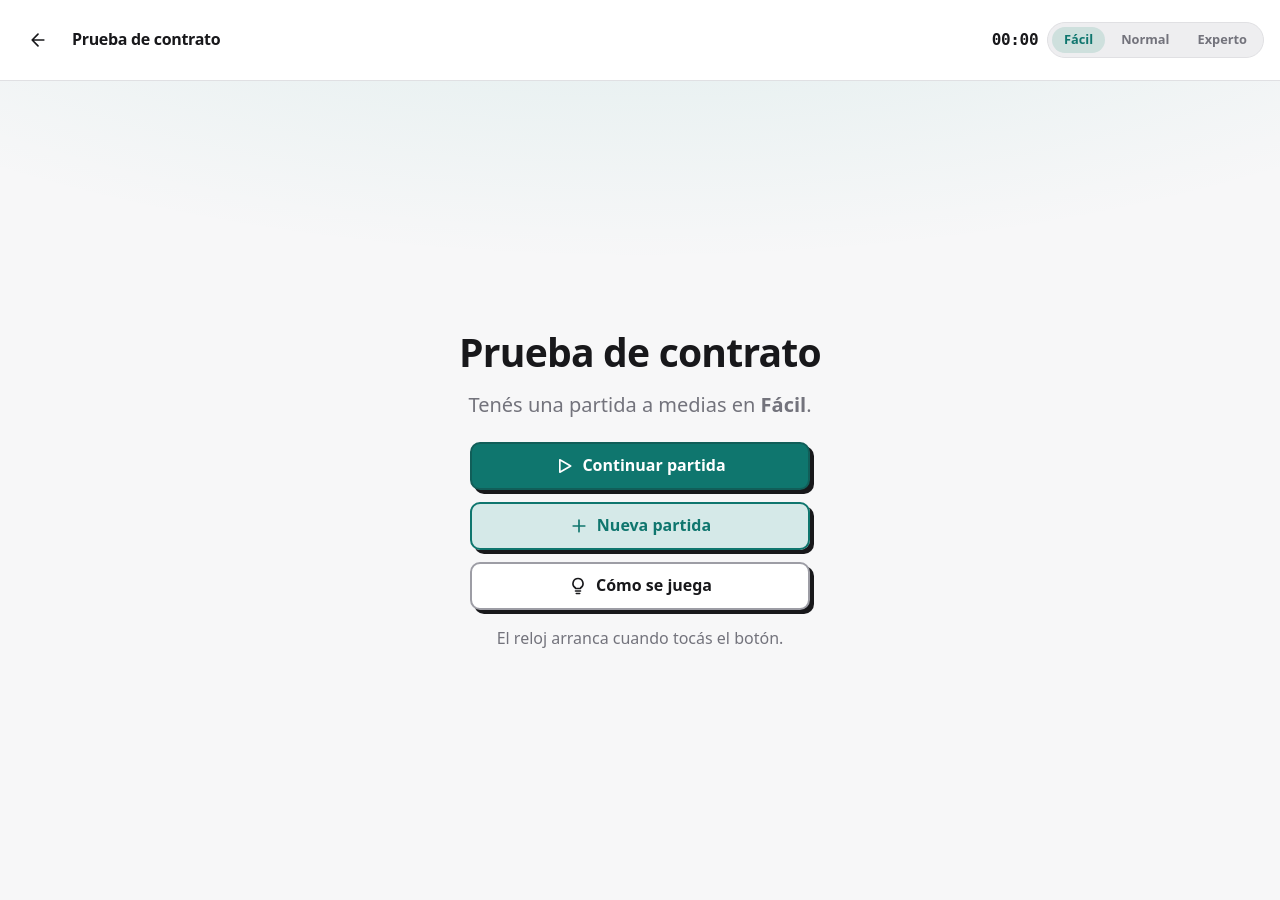
Test: the shell runs a game it does not know › runs the game-supplied action and shows the shell victory state
Click the button "Continuar partida" at (640, 466), box [470,442,810,490]
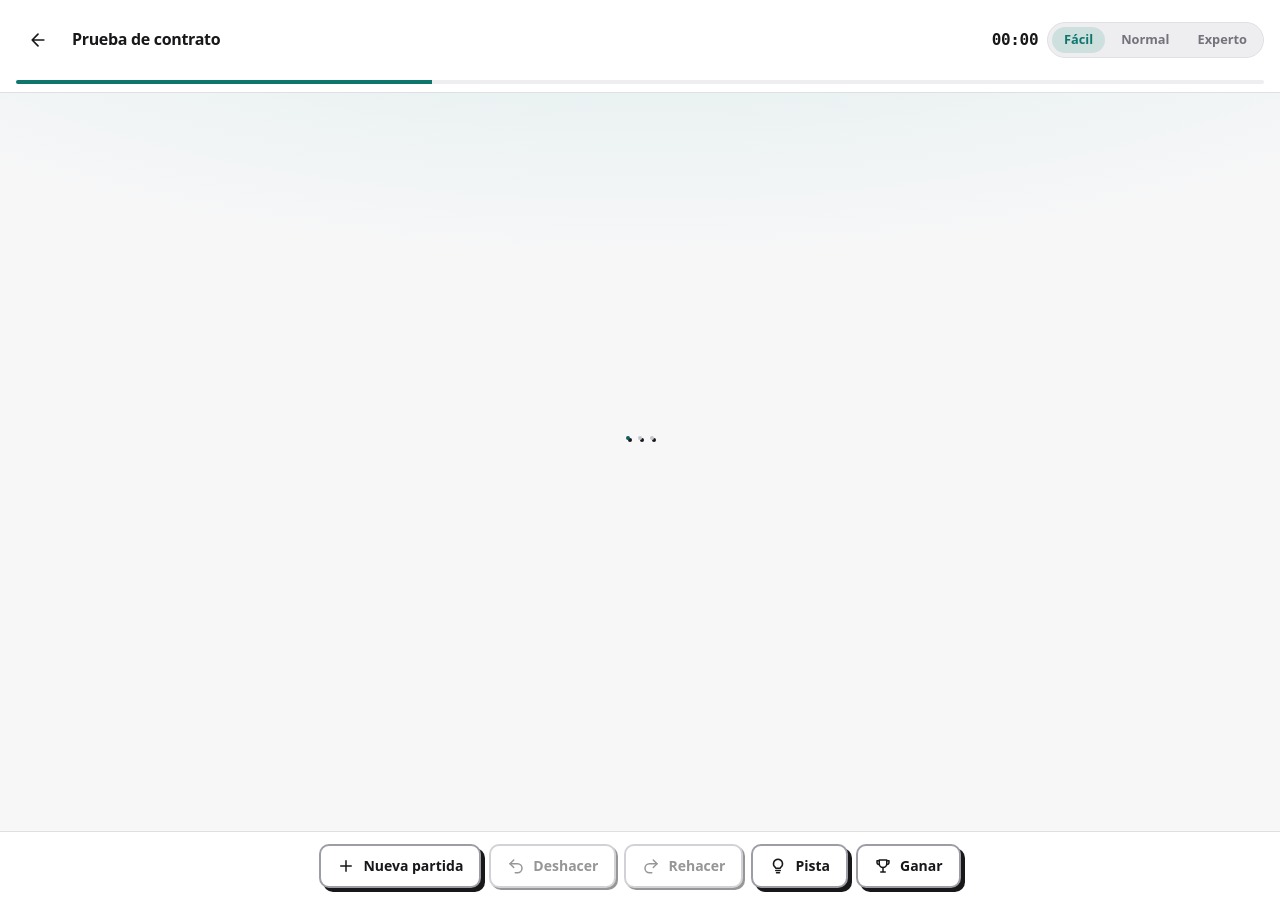
Click the button "Ganar" at (908, 866), box [856,844,961,888]
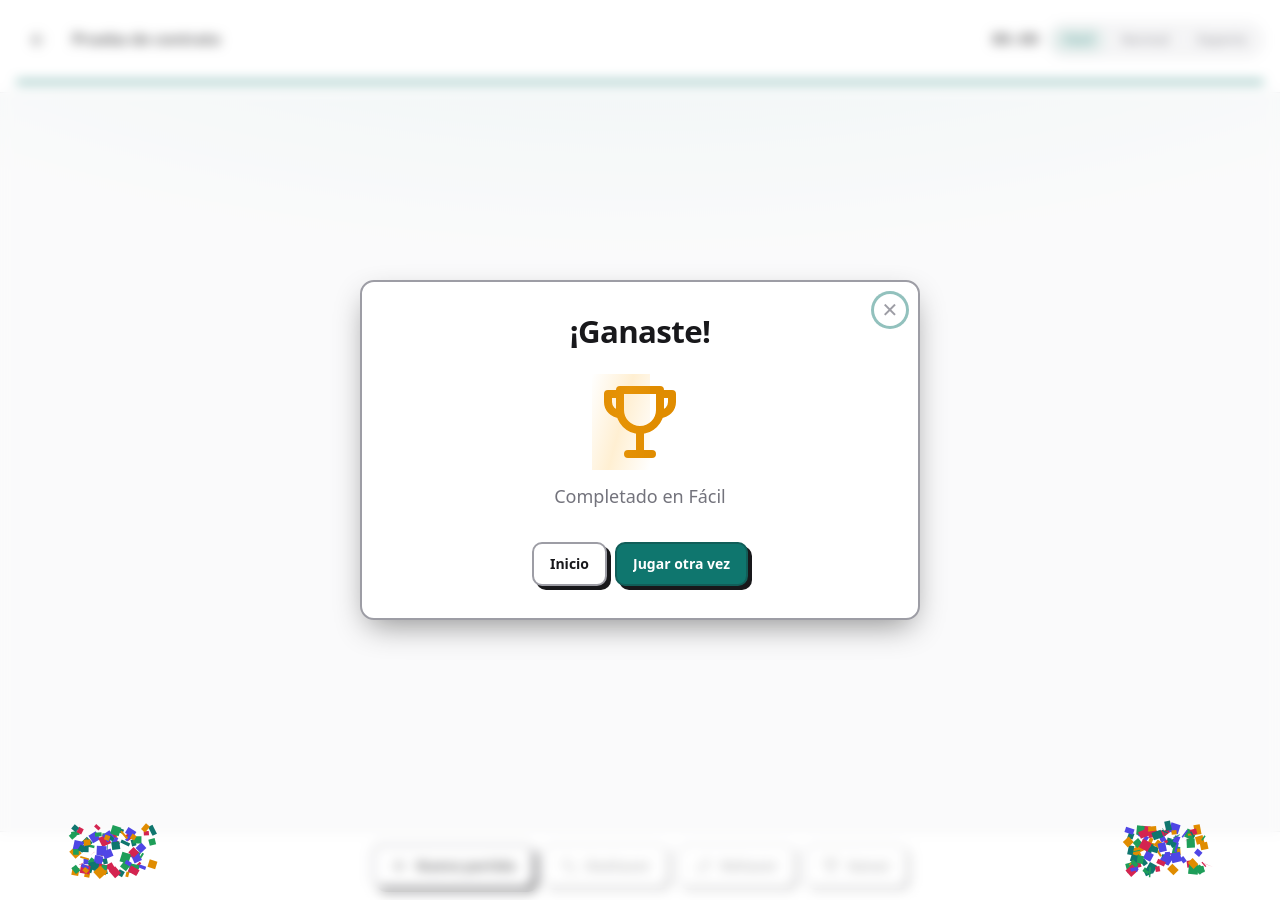
Expected: the heading "¡Ganaste!" is shown, [570,310,710,352]
Expected: the button "Jugar otra vez" is shown, [615,542,748,586]
